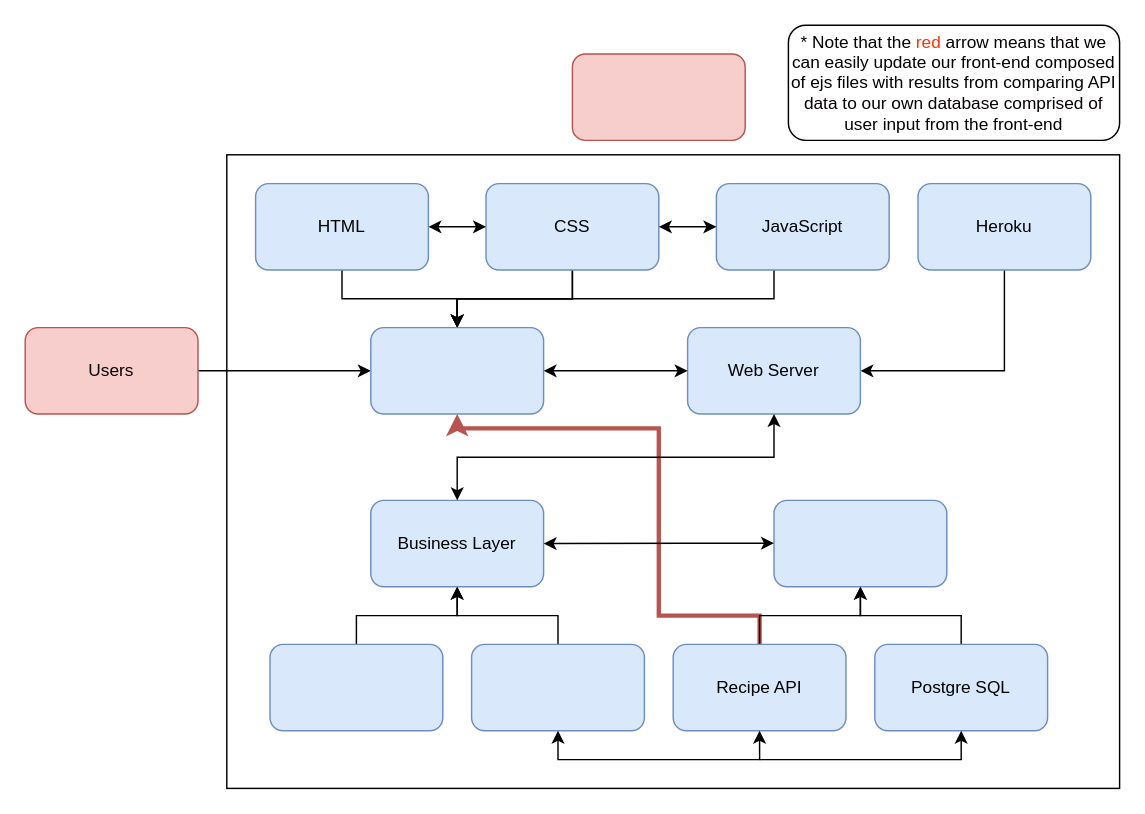
The diagram is 1145 pixels wide and 814 high, and some of its shapes have lost their labels. The centre of each missing label's shape, as x and y in pixels:
Database: (x=860, y=543)
File System: (x=356, y=687)
Front-end: (x=456, y=370)
NodeJS: (x=557, y=687)
Web Application Architecture: (x=658, y=96)
